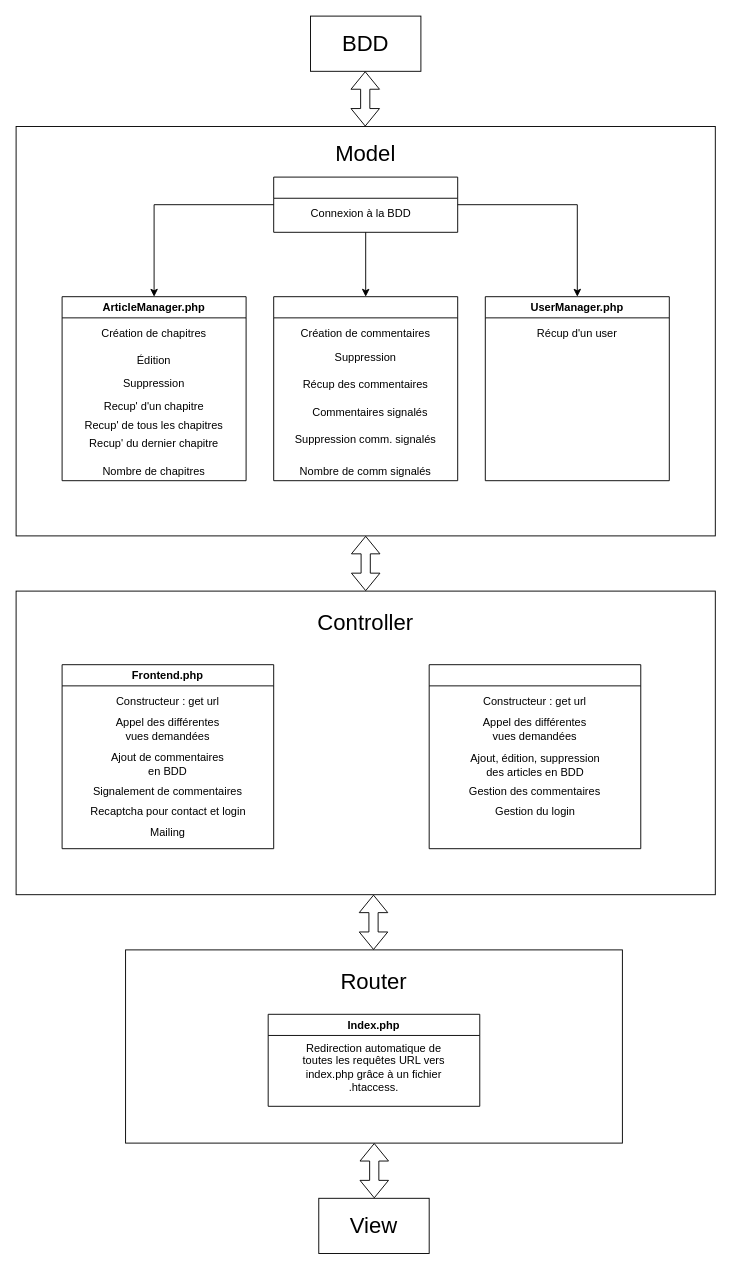
The diagram is 731 pixels wide and 1270 high, and some of its shapes have lost their labels. The box of each missing label's shape, as (x1, y1, x2, y2) in pixels:
Backend.php: (428, 664, 641, 849)
CommentManager.php: (273, 296, 458, 481)
Manager.php: (273, 176, 458, 232)
